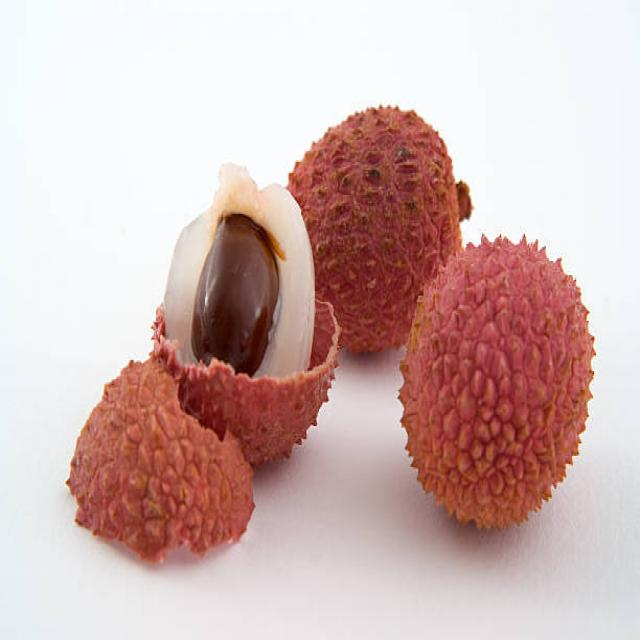lychee: (134, 99, 606, 566)
